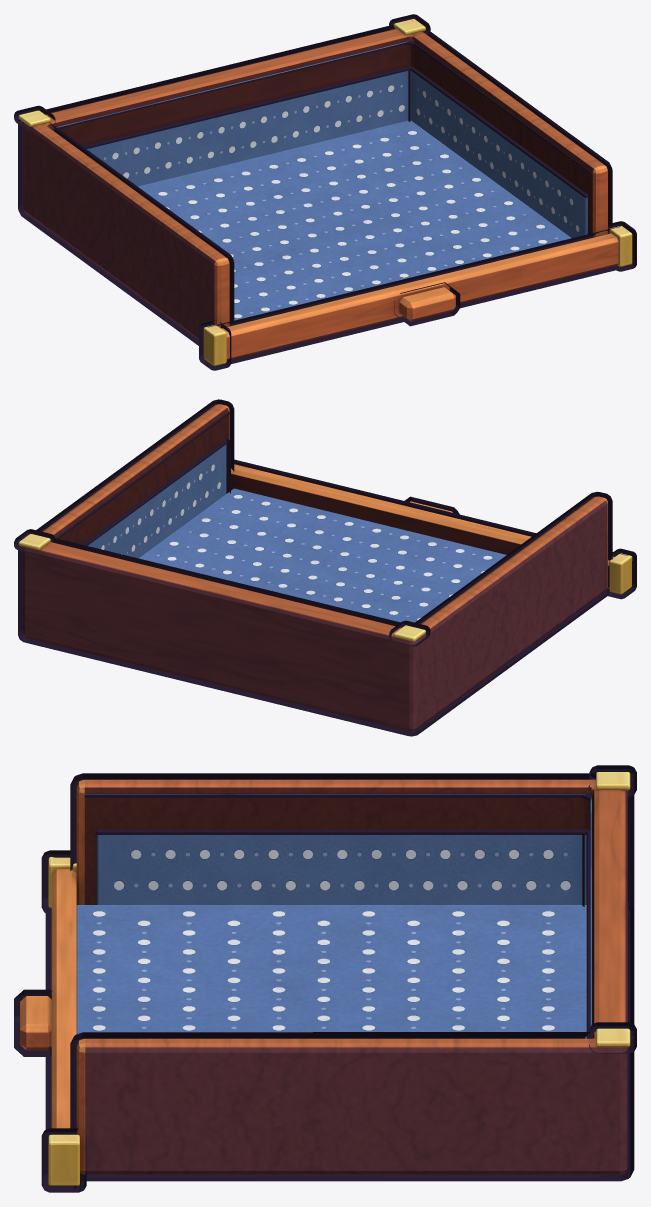
Rendered from Drawer.glb.
The picture shows the model from 3 angles, top to bottom: view 1: azimuth 30°, elevation 25°; view 2: azimuth 150°, elevation 25°; view 3: azimuth 270°, elevation 25°; orthographic projection. The views are drawn at different scales.
Visible parts, largest first — view 1: Drawer, DrawerLiner, Drawer_Outline; view 2: Drawer, DrawerLiner, Drawer_Outline; view 3: Drawer, DrawerLiner, Drawer_Outline.
Boxes of the visible parts, x1,y1,x2,y2 form: Drawer: (18, 19, 632, 365); DrawerLiner: (138, 120, 571, 320); Drawer_Outline: (14, 14, 636, 370); Drawer: (18, 404, 632, 731); DrawerLiner: (139, 488, 506, 622); Drawer_Outline: (14, 399, 636, 736); Drawer: (20, 772, 630, 1185); DrawerLiner: (76, 905, 586, 1038); Drawer_Outline: (14, 765, 636, 1192).
Bounding box in the file's own units: 5.24 × 1.25 × 4.72.
Materials: 3 (3 with a texture image).
